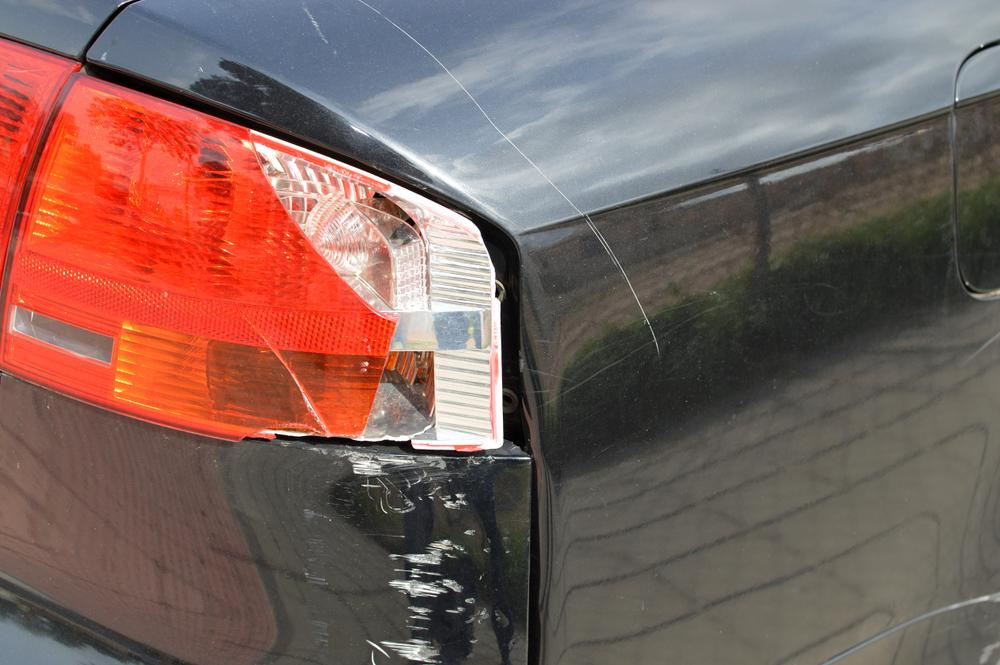lamp broken: (0, 36, 512, 454)
scratch: (360, 0, 665, 363), (347, 446, 499, 665)
